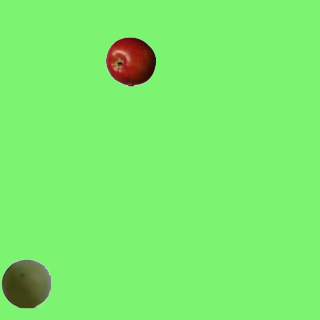Apple Braeburn: (105, 36, 155, 86)
Grape White 4: (0, 258, 50, 308)
